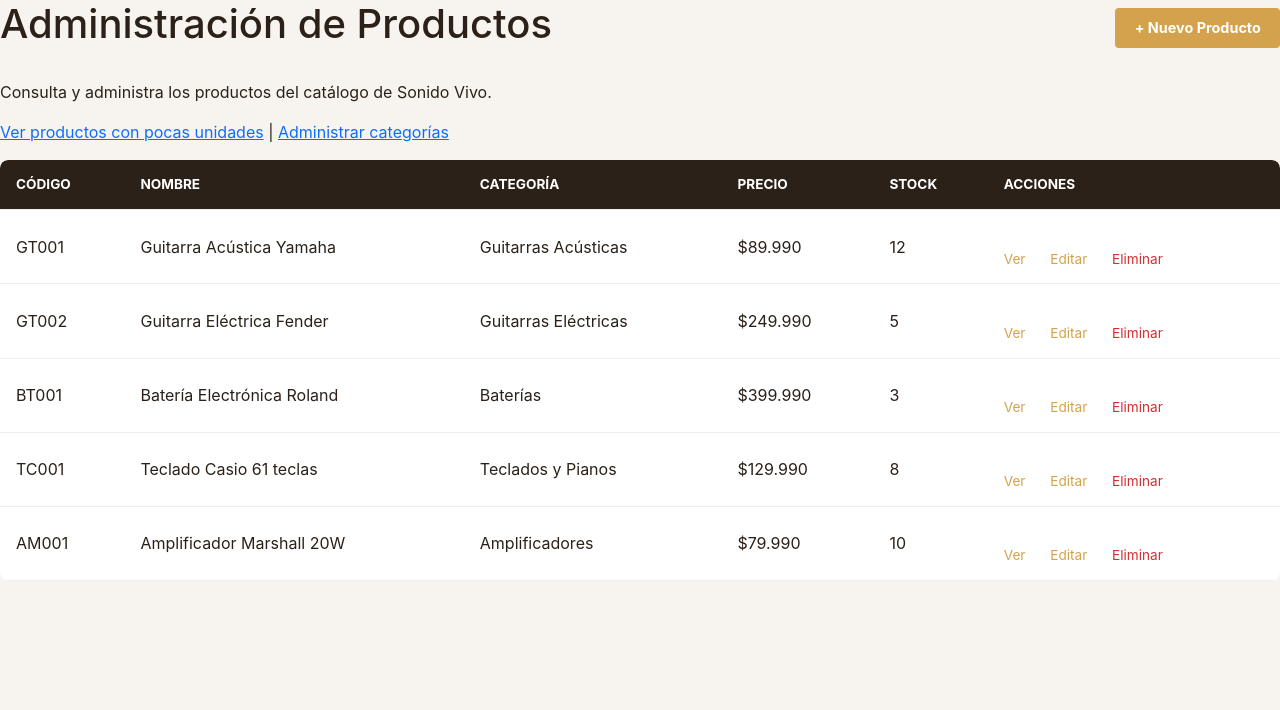
Test case: Administración de productos › debe mostrar y cerrar el detalle de un producto
This screenshot has width=1280, height=710.
Click the button "Ver" in the row of "GT002" at (1015,333), box [1004,323,1025,343]
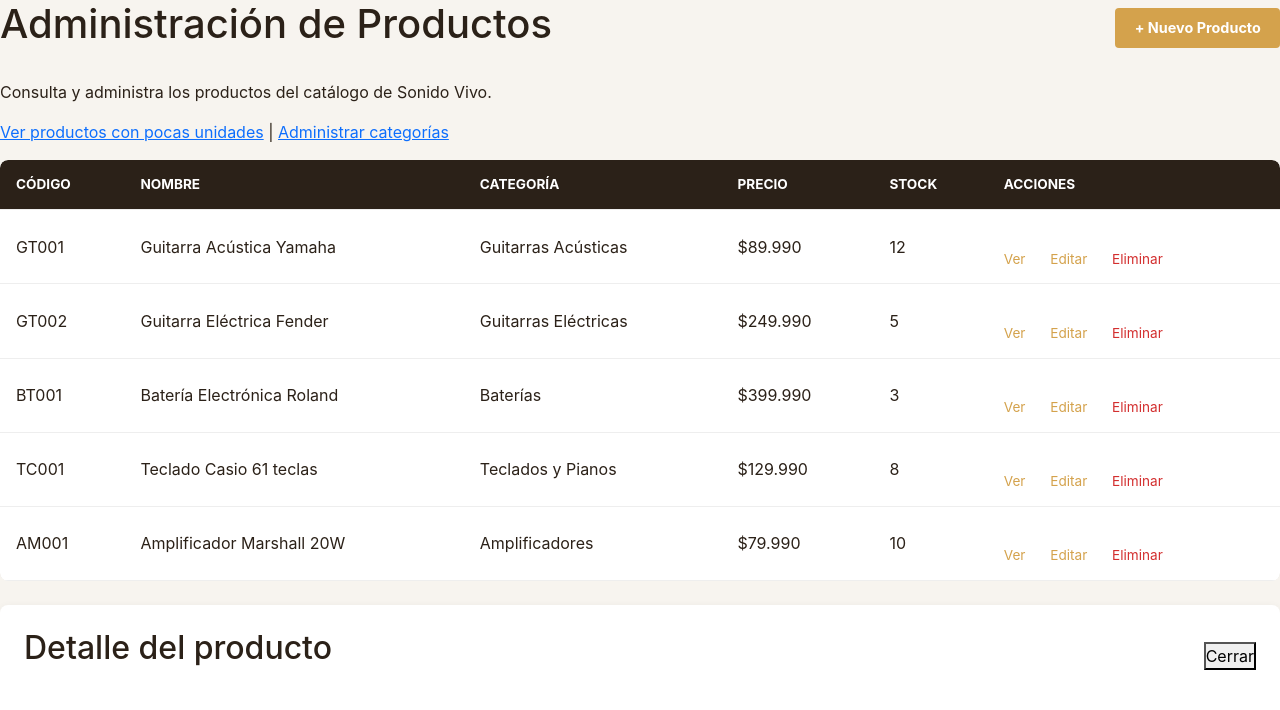
Click the button "Cerrar" at (1230,656), box [1204,642,1256,670]
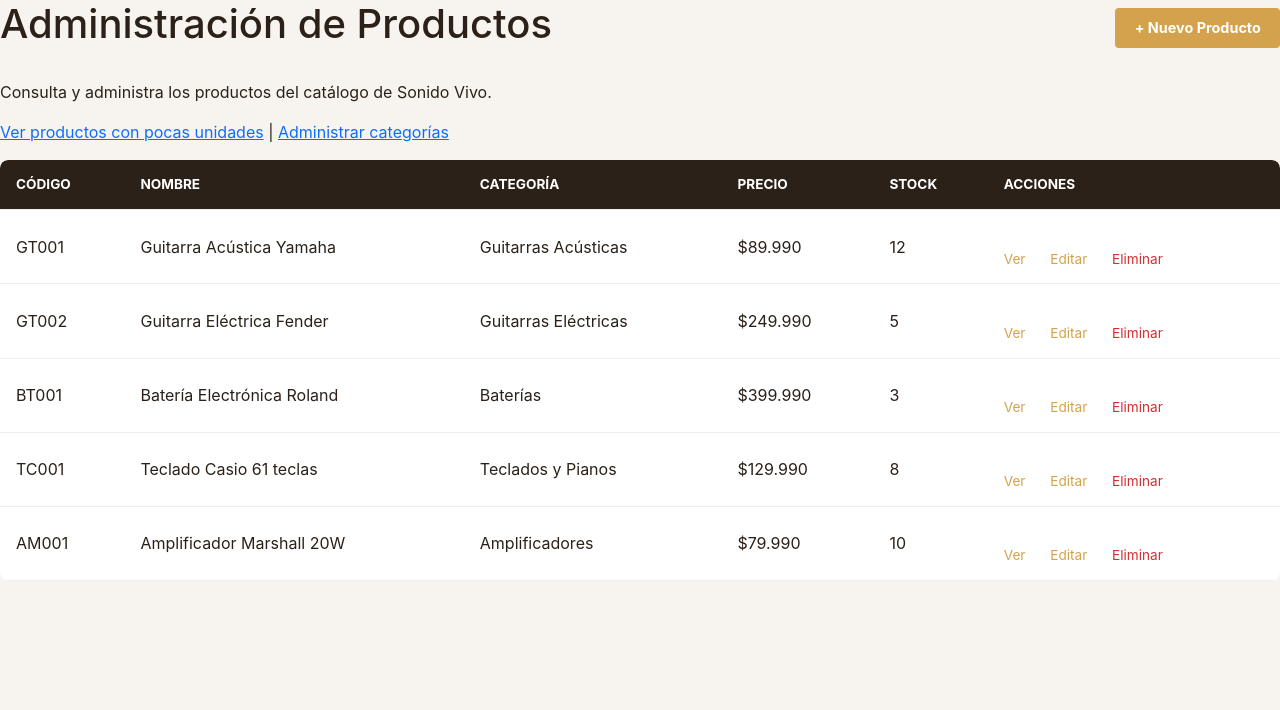
Result: the heading labelled "Detalle del producto" is gone
